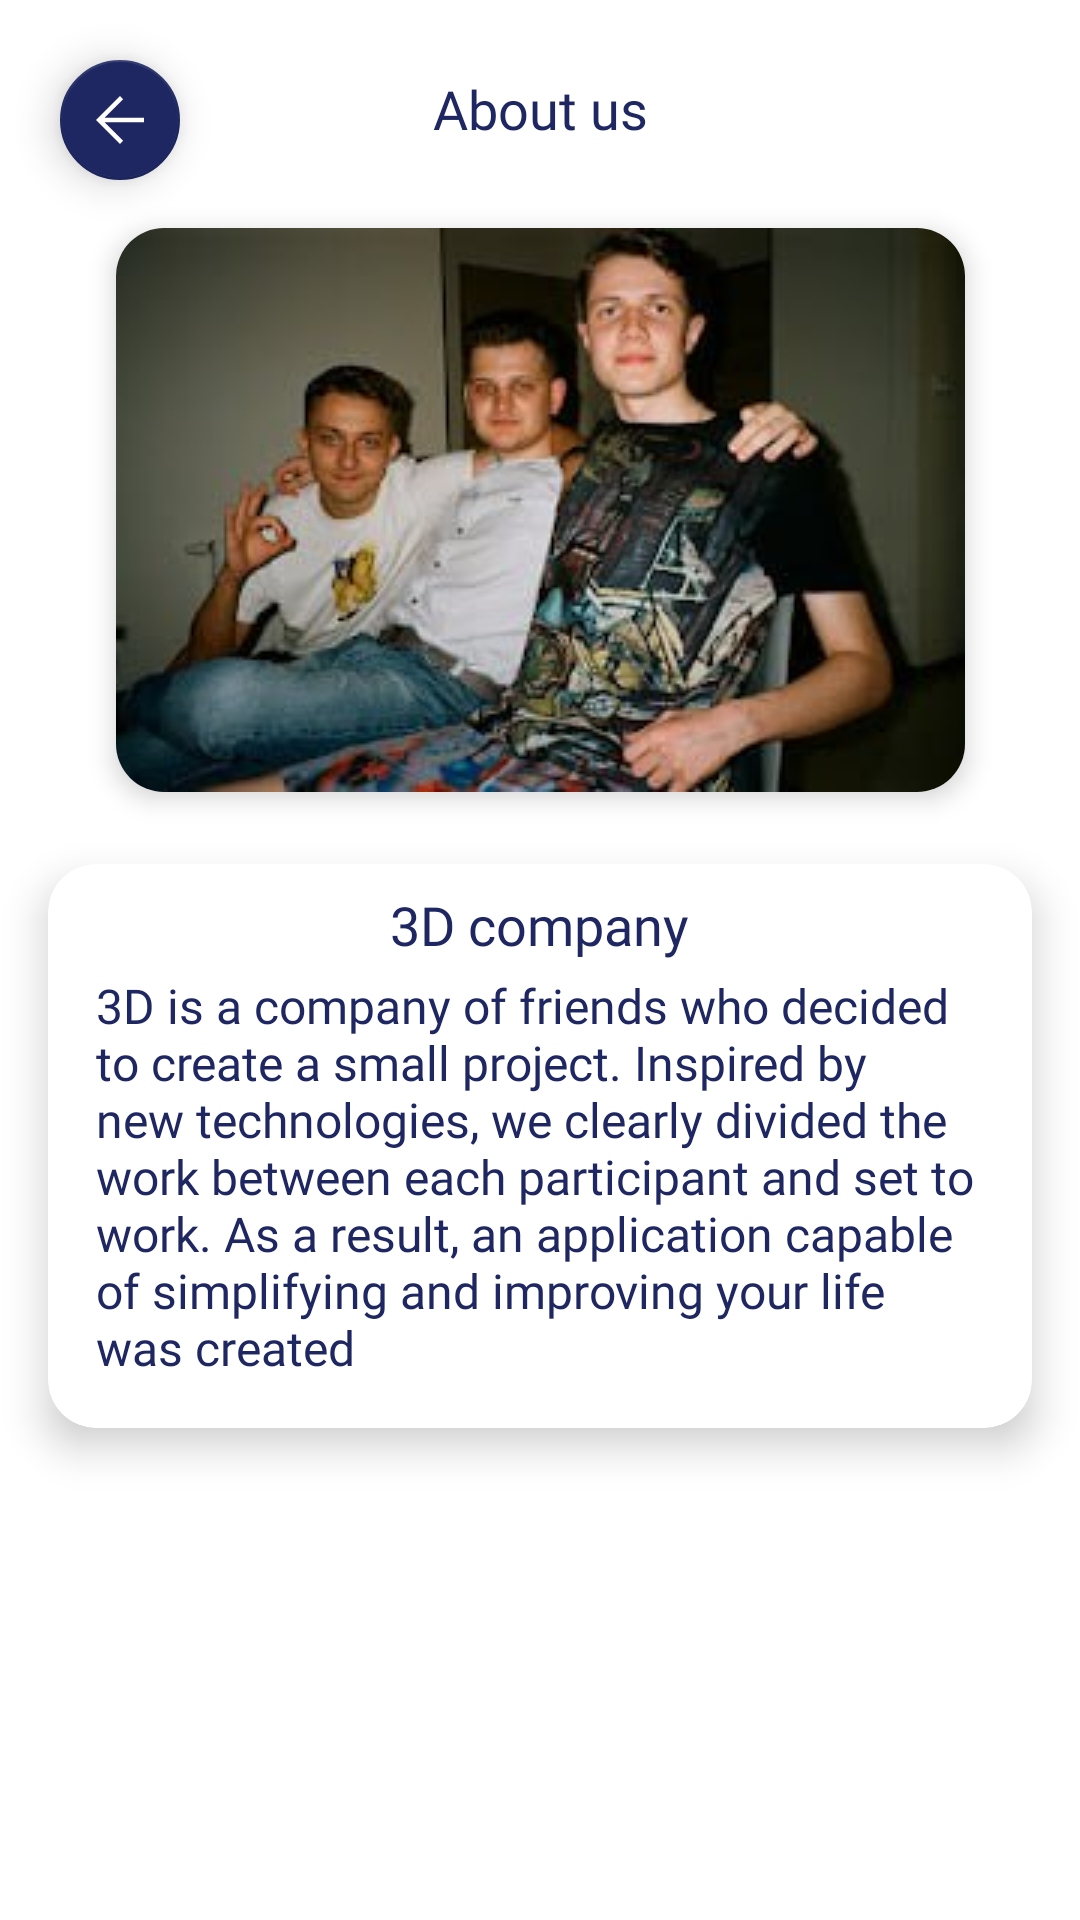

Where to tap for icons on this 1080*1920 app screen, as [x,y]:
arrow back: [119,120]
